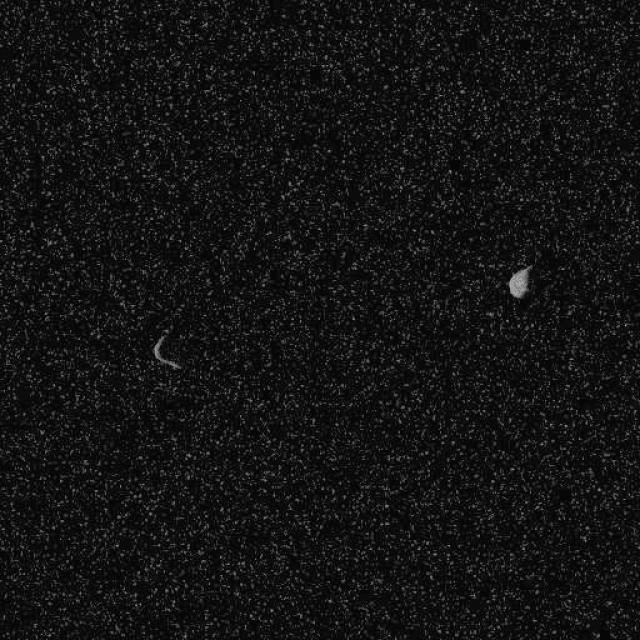D2: (152, 330, 182, 370), (507, 262, 532, 298)
